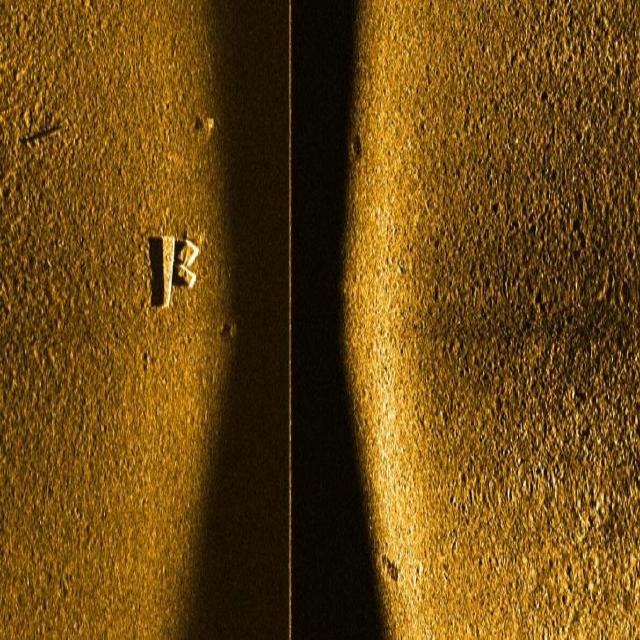other: (152, 215, 202, 319)
